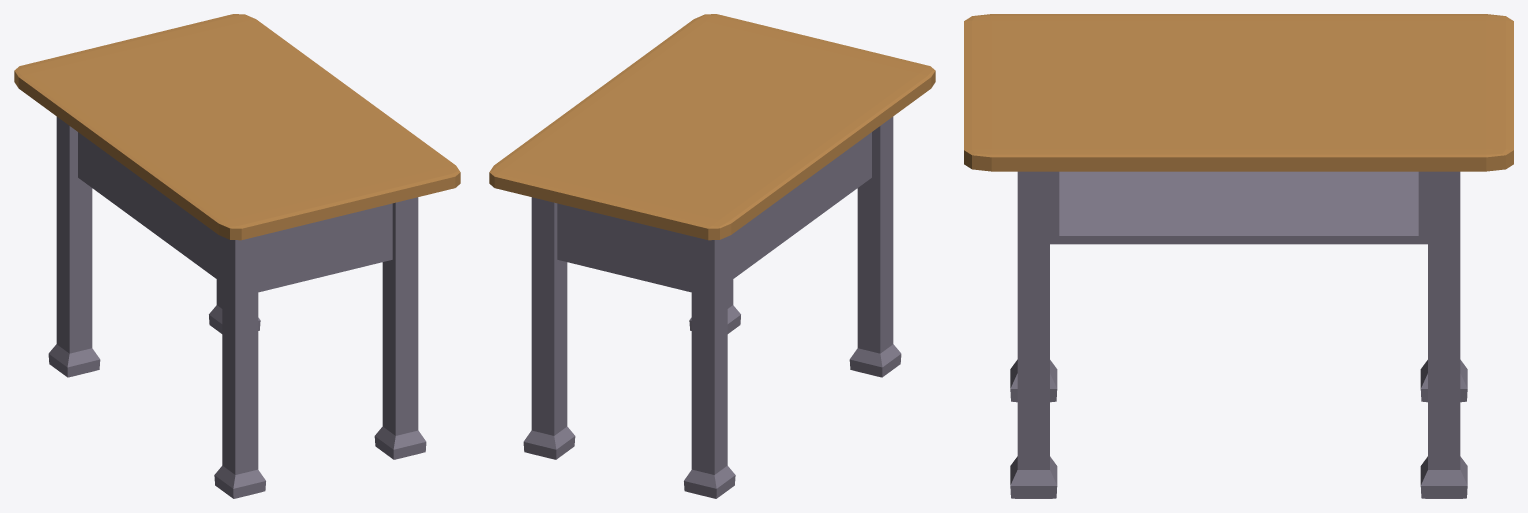
The model's file is B_Table.fbx.
3 views of the same model, side by side, from view 1: azimuth 30°, elevation 25°; view 2: azimuth 150°, elevation 25°; view 3: azimuth 270°, elevation 25° (orthographic). The views are drawn at different scales.
Visible parts, largest first — view 1: Cube, Cube.002, Cube.001; view 2: Cube, Cube.002, Cube.001; view 3: Cube, Cube.001, Cube.002.
Part boxes in pixels (x1,y1,x2,y2): Cube: (14, 14, 460, 240); Cube.002: (48, 117, 426, 498); Cube.001: (78, 132, 392, 292); Cube: (489, 14, 935, 240); Cube.002: (523, 117, 901, 498); Cube.001: (557, 132, 871, 292); Cube: (964, 14, 1513, 171); Cube.001: (1050, 171, 1427, 244); Cube.002: (1010, 171, 1467, 498).
Bounding box in the file's own units: 499 × 582 × 809.
